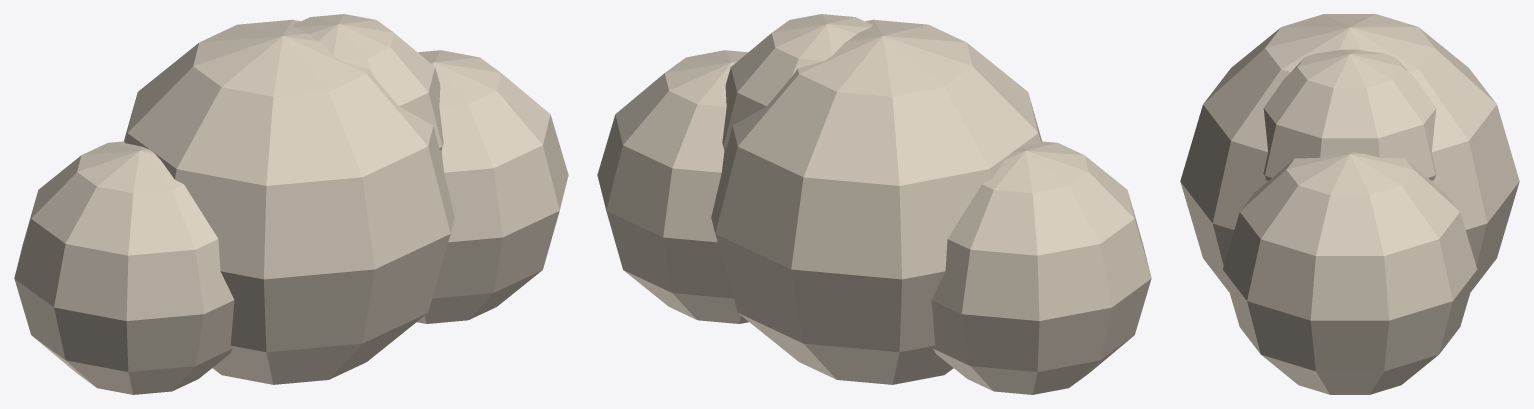
Rendered from cloud-puff-Bv9a_cSo.glb.
The picture shows the model from 3 angles, left to right: view 1: azimuth 30°, elevation 25°; view 2: azimuth 150°, elevation 25°; view 3: azimuth 270°, elevation 25°; orthographic projection. The views are drawn at different scales.
Visible parts, largest first — view 1: Cloud_B, Cloud_A, Cloud_C, Cloud_D; view 2: Cloud_B, Cloud_A, Cloud_C, Cloud_D; view 3: Cloud_C, Cloud_B, Cloud_D.
Part boxes in pixels (x1=…): Cloud_B: x1=124, y1=19, x2=454, y2=384; Cloud_A: x1=14, y1=141, x2=234, y2=394; Cloud_C: x1=417, y1=50, x2=568, y2=323; Cloud_D: x1=293, y1=14, x2=443, y2=151; Cloud_B: x1=711, y1=19, x2=1041, y2=384; Cloud_A: x1=931, y1=141, x2=1151, y2=394; Cloud_C: x1=597, y1=50, x2=748, y2=323; Cloud_D: x1=722, y1=14, x2=872, y2=151; Cloud_C: x1=1222, y1=152, x2=1477, y2=394; Cloud_B: x1=1180, y1=14, x2=1519, y2=291; Cloud_D: x1=1263, y1=49, x2=1436, y2=180.
Size of the model in its own units: 3.23 by 2 by 2.
